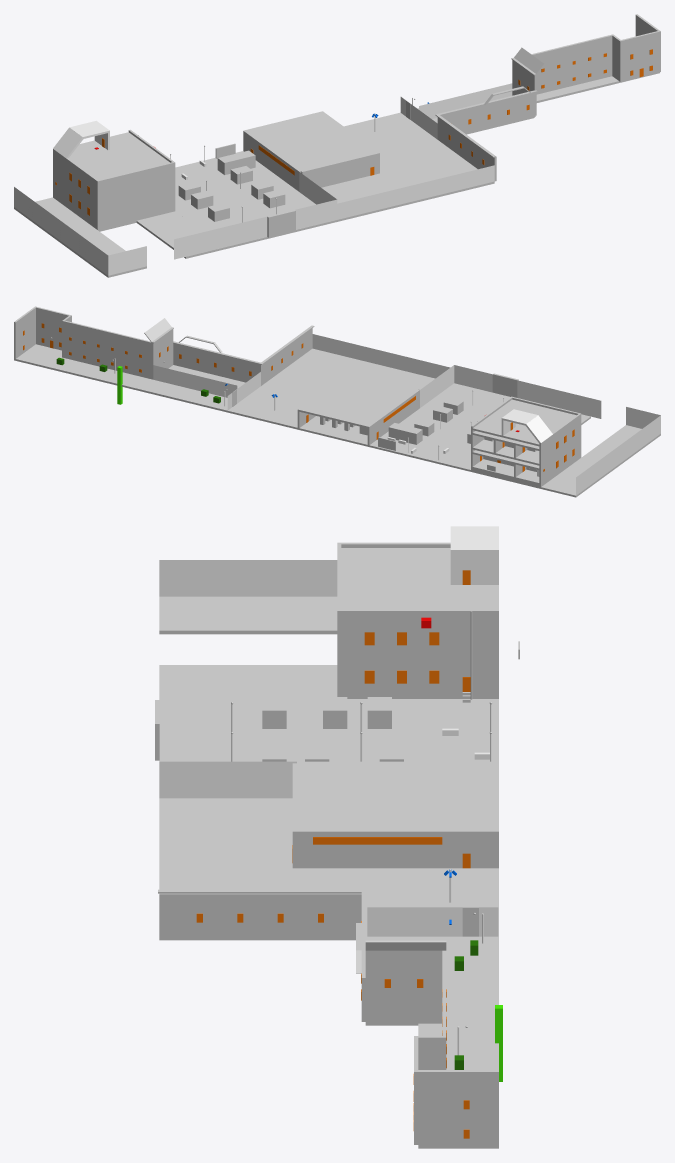
Rendered from Jailbreak.obj.
3 views of the same model, one above another, from view 1: azimuth 30°, elevation 25°; view 2: azimuth 150°, elevation 25°; view 3: azimuth 270°, elevation 25° (orthographic). The views are drawn at different scales.
Visible parts, largest first — view 1: Ground_Dirt_1, Parking_Exit_Ground_1, Kitchen_Roof_1, Prison_Wall_4, Barracks_Wall_2, Barracks_Floor_3, Fence_3, Barracks_Wall_3, Yard_Wall_1, Fence_Big_5, Fence_Big_2, Ground_Grass_3 (+20 smaller); view 2: Ground_Dirt_1, Parking_Exit_Ground_1, Kitchen_Roof_1, Prison_Wall_4, Fence_3, Ground_Grass_1, Ground_Grass_3, Barracks_Floor_3, Yard_Wall_1, Barracks_Wall_3, Fence_Big_5, Fence_Big_2 (+26 smaller); view 3: Parking_Exit_Ground_1, Kitchen_Roof_1, Barracks_Wall_1, Ground_Dirt_1, Ground_Dirt_2, Yard_Wall_2, Barracks_Floor_3, Ground_Grass_3, Kitchen_Wall_1, Fence_Big_5, Ground_Grass_4, Prison_Wall_1 (+11 smaller).
Boxes of the visible parts, x1,y1,x2,y2 form: Ground_Dirt_1: (344, 112, 494, 202); Parking_Exit_Ground_1: (175, 151, 337, 249); Kitchen_Roof_1: (243, 111, 376, 173); Prison_Wall_4: (531, 35, 612, 94); Barracks_Wall_2: (96, 162, 173, 225); Barracks_Floor_3: (69, 132, 173, 184); Fence_3: (337, 165, 494, 219); Barracks_Wall_3: (53, 149, 99, 225); Yard_Wall_1: (437, 92, 535, 139); Fence_Big_5: (14, 187, 108, 275); Fence_Big_2: (174, 216, 267, 259); Ground_Grass_3: (14, 197, 146, 277); Ground_Dirt_1: (227, 348, 381, 429); Parking_Exit_Ground_1: (369, 383, 510, 471); Kitchen_Roof_1: (299, 373, 419, 428); Prison_Wall_4: (64, 320, 151, 378); Fence_3: (312, 334, 450, 378); Ground_Grass_1: (14, 344, 152, 390); Ground_Grass_3: (541, 425, 660, 497); Barracks_Floor_3: (472, 399, 576, 446); Yard_Wall_1: (173, 343, 261, 385); Barracks_Wall_3: (539, 413, 581, 483); Fence_Big_5: (576, 415, 660, 495); Fence_Big_2: (517, 380, 601, 418); Parking_Exit_Ground_1: (159, 699, 498, 761); Kitchen_Roof_1: (297, 761, 498, 829); Barracks_Wall_1: (337, 609, 498, 691); Ground_Dirt_1: (159, 868, 498, 940); Ground_Dirt_2: (159, 798, 292, 868); Yard_Wall_2: (159, 893, 361, 938); Barracks_Floor_3: (341, 548, 498, 609); Ground_Grass_3: (159, 596, 337, 634); Kitchen_Wall_1: (297, 830, 498, 868); Fence_Big_5: (159, 560, 337, 596); Ground_Grass_4: (159, 665, 337, 698); Prison_Wall_1: (418, 1070, 498, 1144).
Size of the model in its own units: 237 by 31.67 by 66.52.
